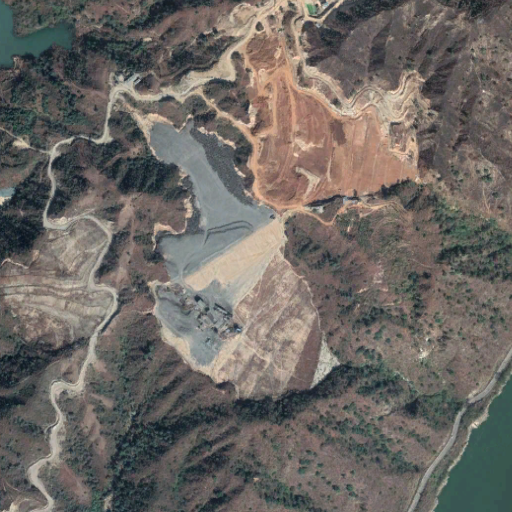tp: (141, 118, 340, 395)
